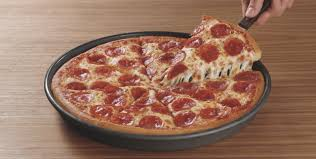pizza: (59, 30, 273, 142)
